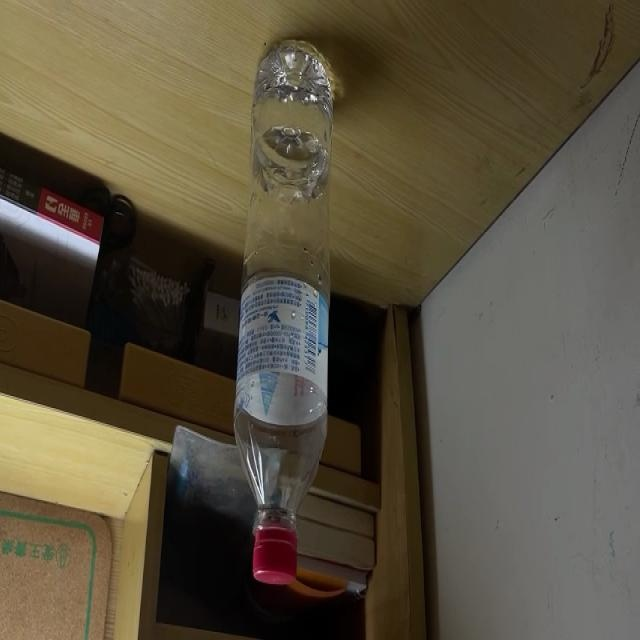Water: (234, 39, 337, 586)
